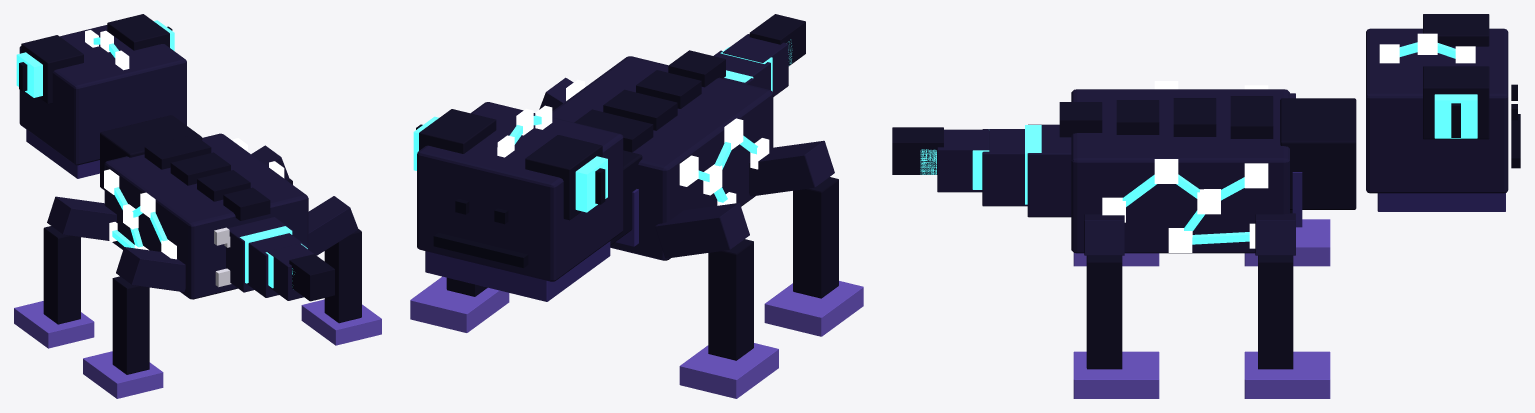
File: cosmic-gecko.glb
The picture shows the model from 3 angles, left to right: view 1: azimuth 30°, elevation 25°; view 2: azimuth 150°, elevation 25°; view 3: azimuth 270°, elevation 25°; orthographic projection. The views are drawn at different scales.
Visible parts, largest first — view 1: body, head, leg.BR, leg.FR, leg.BL, tail, leg.FL; view 2: head, body, leg.FR, leg.BR, tail, leg.FL, leg.BL; view 3: body, head, tail, leg.BL, leg.FL, leg.FR, leg.BR.
Boxes of the visible parts, x1,y1,x2,y2 form: body: (100, 115, 308, 299); head: (16, 14, 186, 178); leg.BR: (83, 247, 185, 398); leg.FR: (14, 196, 116, 348); leg.BL: (301, 196, 381, 345); tail: (226, 217, 334, 301); leg.FL: (251, 145, 292, 184); head: (413, 102, 623, 301); body: (552, 50, 773, 260); leg.FR: (655, 203, 778, 398); leg.BR: (749, 140, 863, 336); tail: (714, 14, 805, 96); leg.FL: (410, 276, 509, 332); leg.BL: (539, 77, 573, 110); body: (1059, 81, 1356, 253); head: (1366, 14, 1520, 211); tail: (892, 124, 1071, 217); leg.BL: (1073, 214, 1159, 398); leg.FL: (1244, 213, 1330, 398); leg.FR: (1244, 93, 1330, 266); leg.BR: (1073, 253, 1159, 266).
Size of the model in its own units: 1.14 by 0.9364 by 1.88.
